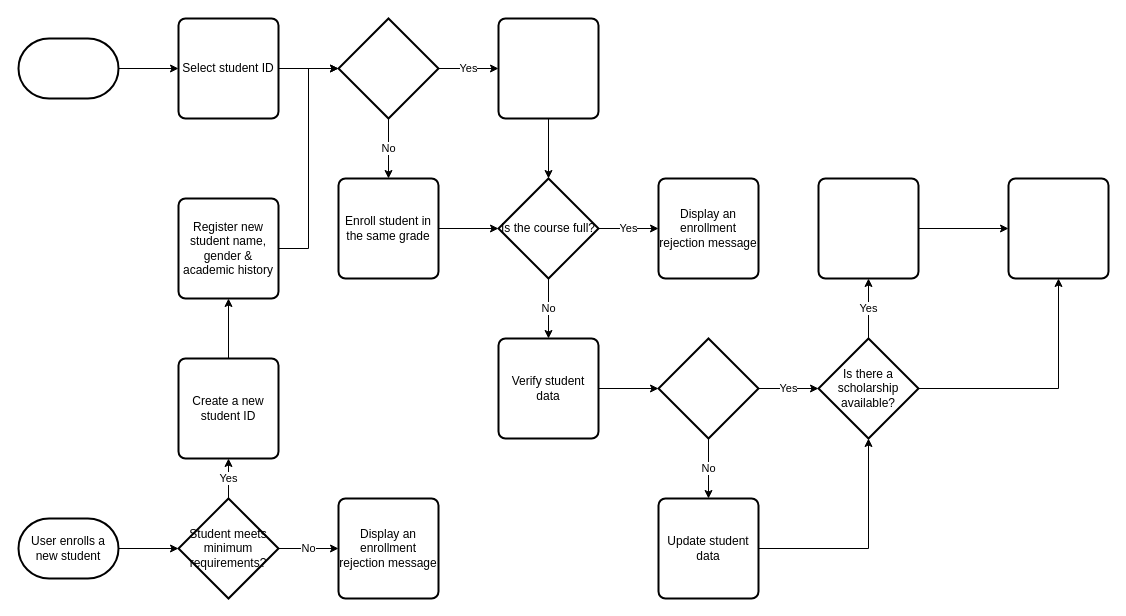
Some shapes in this 1126 by 616 pixel diagram are drawn without their labels. The shapes that lost their labels are listed below. From the top down, each one's centre as x and y in pixels, then its label:
At [68,68]: "User enrolls an old student".
At [388,68]: "Did student pass the last grade?".
At [548,68]: "Enroll student in the next grade".
At [868,228]: "Apply available scholarship".
At [1058,228]: "Display an enrollment confirmation message".
At [708,388]: "Is the data correct?".
